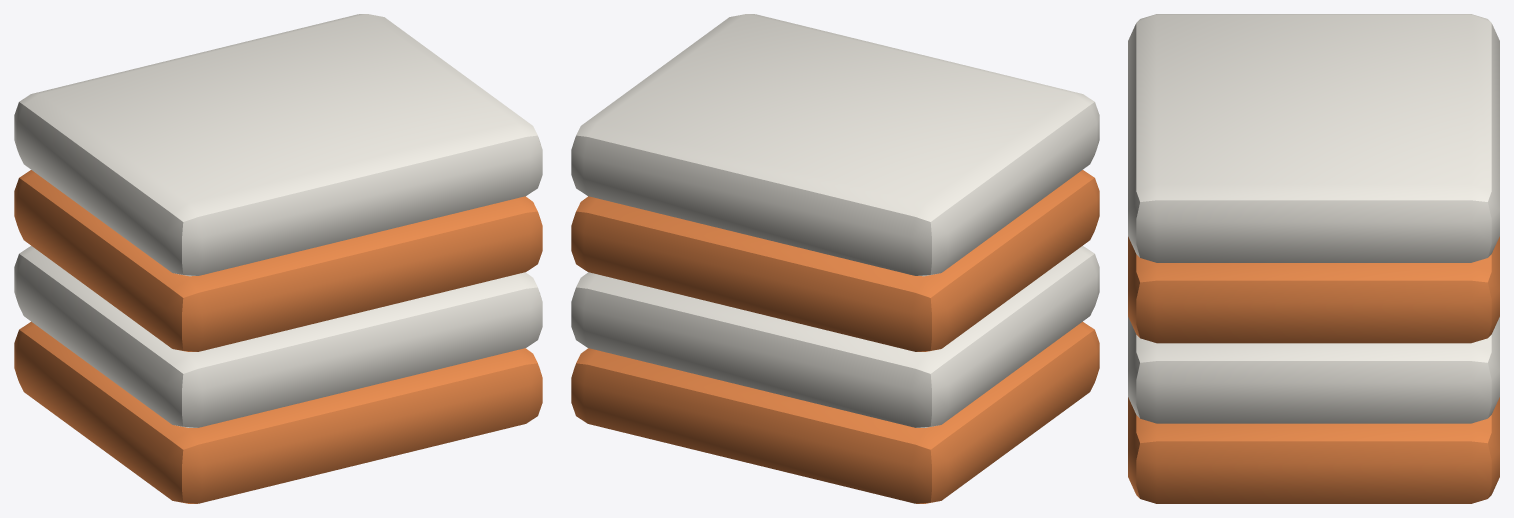
Rendered from clean_laundry.glb.
3 views of the same model, side by side, from view 1: azimuth 30°, elevation 25°; view 2: azimuth 150°, elevation 25°; view 3: azimuth 270°, elevation 25° (orthographic). The views are drawn at different scales.
Visible parts, largest first — view 1: sheet, uniform; view 2: sheet, uniform; view 3: sheet, uniform.
Boxes of the visible parts, x1,y1,x2,y2 form: sheet: [14, 14, 542, 427]; uniform: [14, 170, 542, 503]; sheet: [571, 14, 1099, 427]; uniform: [571, 170, 1099, 503]; sheet: [1128, 14, 1499, 423]; uniform: [1128, 236, 1499, 503].
Bounding box in the file's own units: 0.32 × 0.246 × 0.26.
